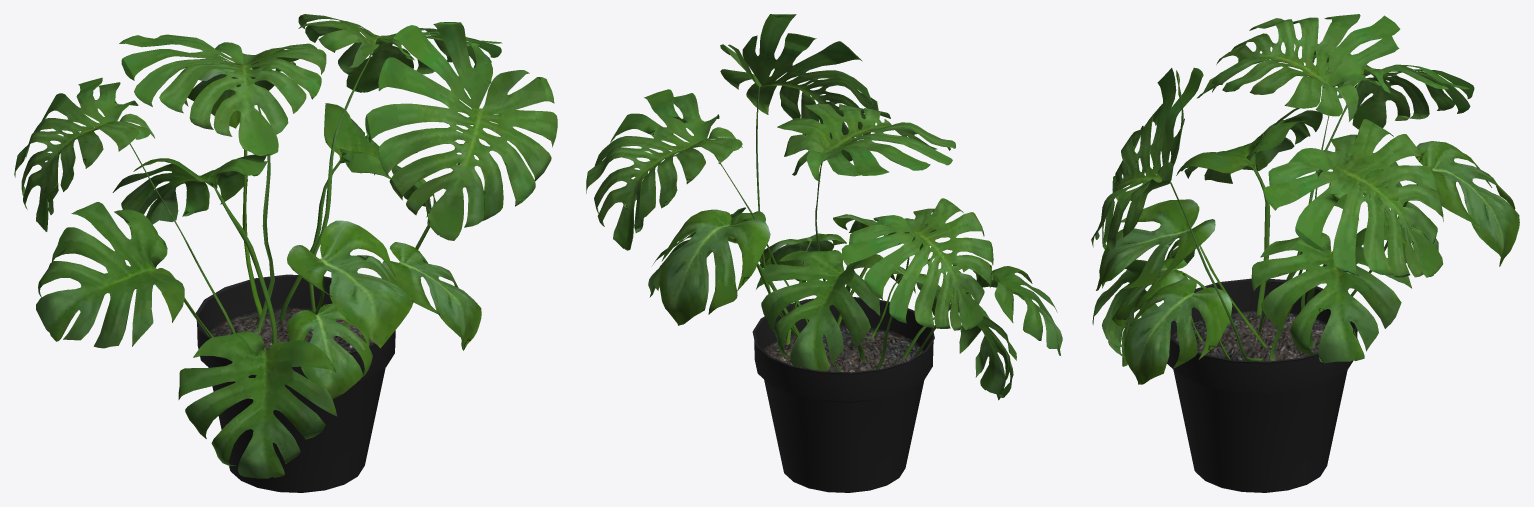
The model's file is Plant2.glb.
The picture shows the model from 3 angles, left to right: view 1: azimuth 30°, elevation 25°; view 2: azimuth 150°, elevation 25°; view 3: azimuth 270°, elevation 25°; orthographic projection. The views are drawn at different scales.
Visible parts, largest first — view 1: ProcessedMeshNode; view 2: ProcessedMeshNode; view 3: ProcessedMeshNode.
Part boxes in pixels (x1,y1,x2,y2): ProcessedMeshNode: [14, 14, 557, 492]; ProcessedMeshNode: [586, 14, 1062, 492]; ProcessedMeshNode: [1091, 14, 1519, 492].
Size of the model in its own units: 0.3623 by 0.324 by 0.2855.
Materials: 1 (1 with a texture image).
